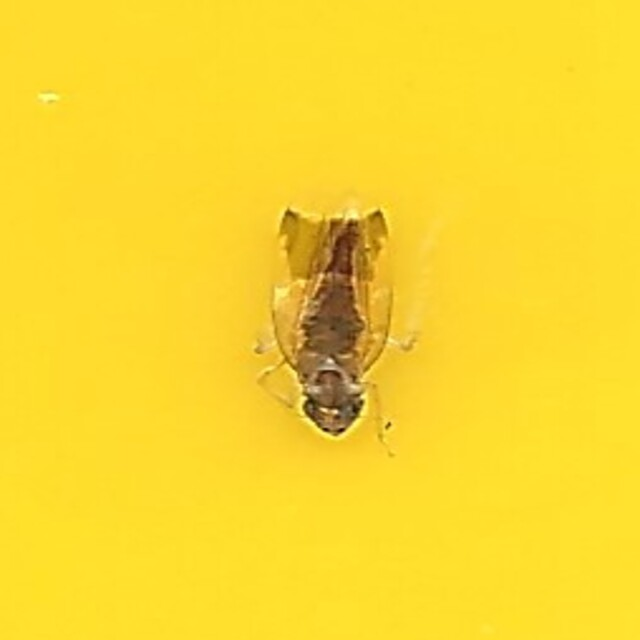Hemiptera: (252, 200, 388, 440)
